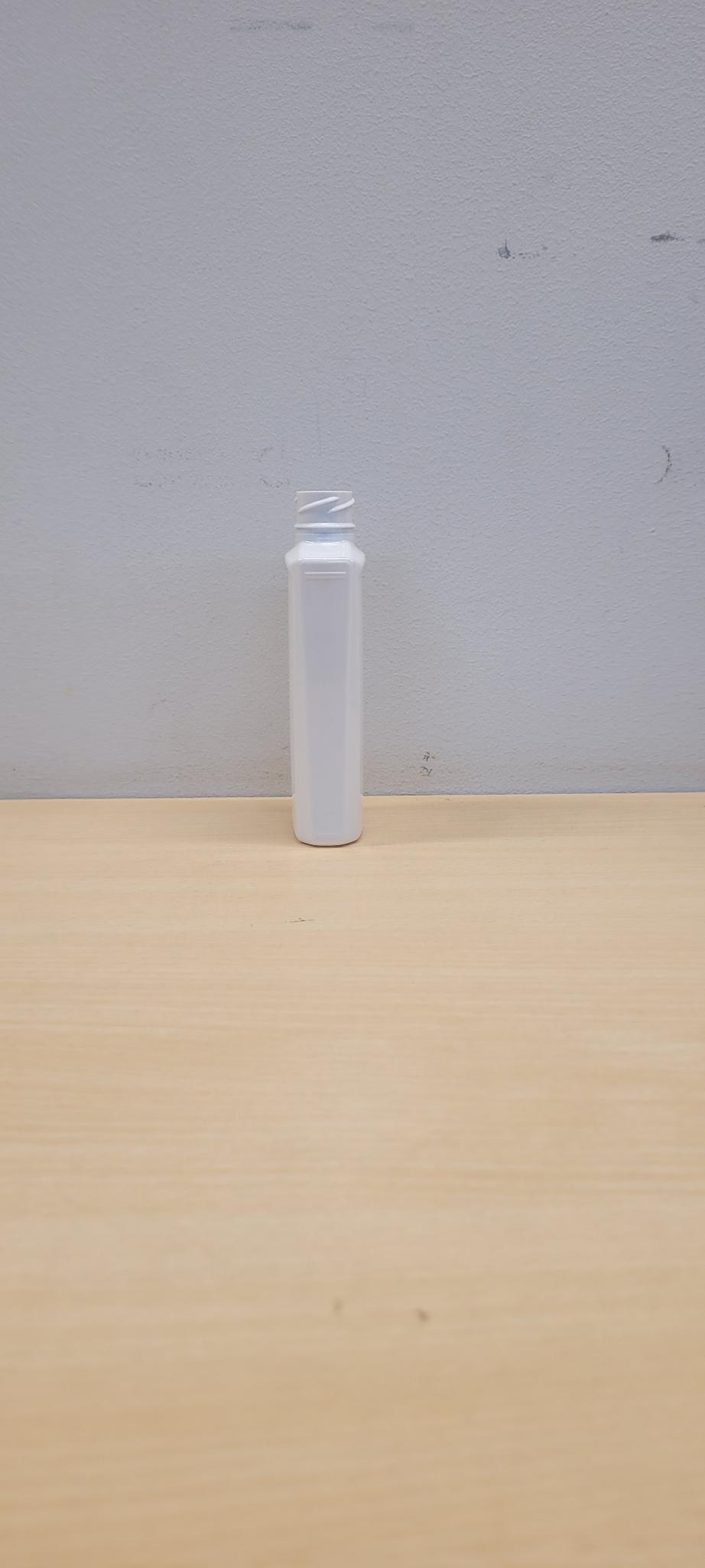bottle: (285, 486, 365, 847)
